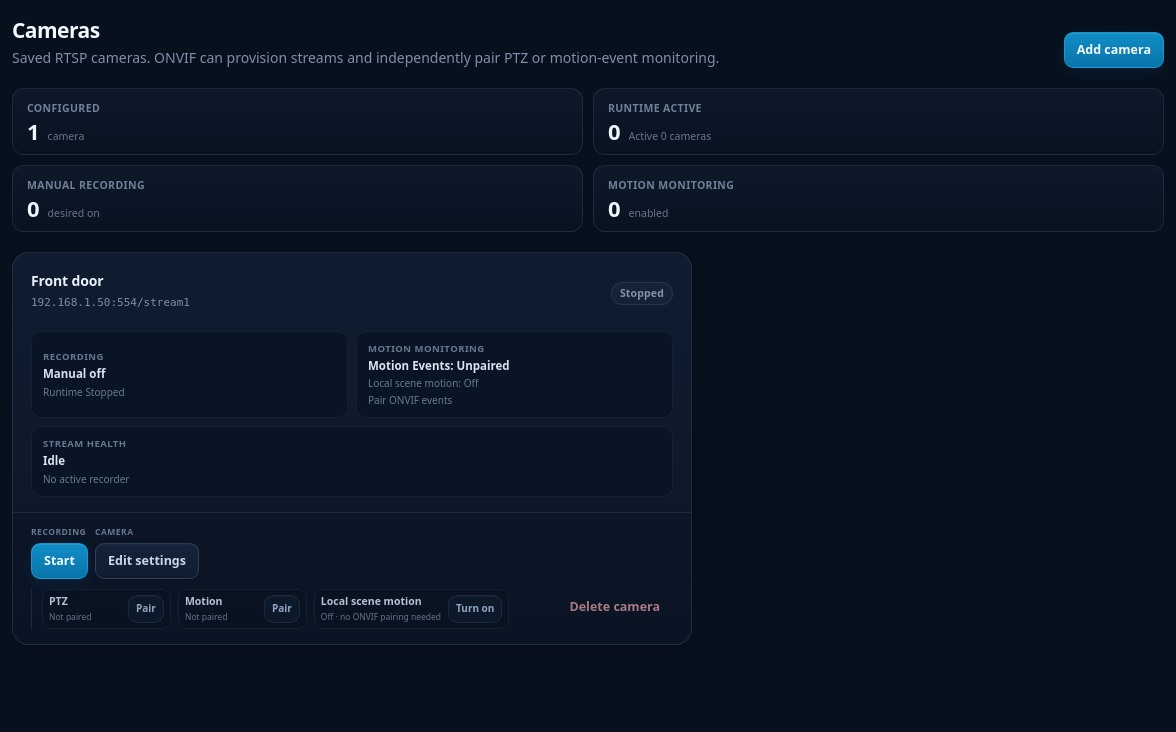
CamerasScreen › persists explicitly opted-in local scene motion without ONVIF pairing
Click the button with aria-label "Enable Local Motion" at (475, 609), box [448, 595, 502, 623]
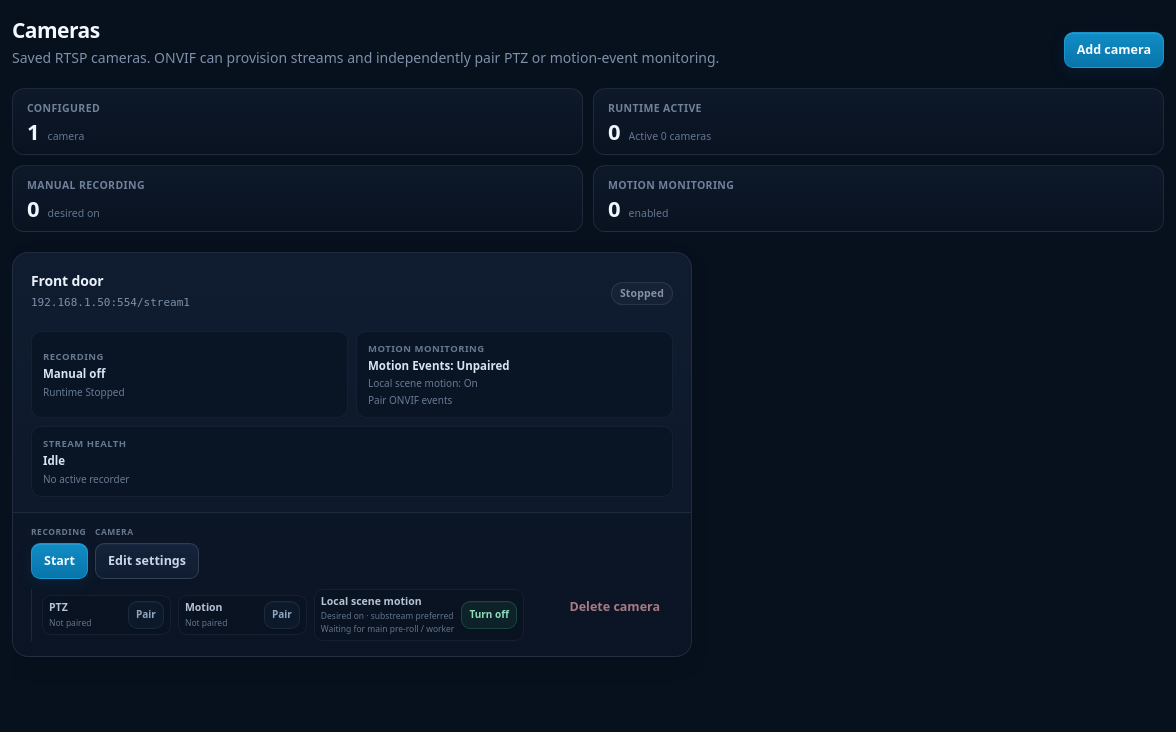
Expected: the button with aria-label "Disable Local Motion" is shown
Expected: the text "Local scene motion: On" is shown, [368, 376, 478, 390]
Click the button with aria-label "Disable Local Motion" at (489, 615), box [461, 601, 517, 629]
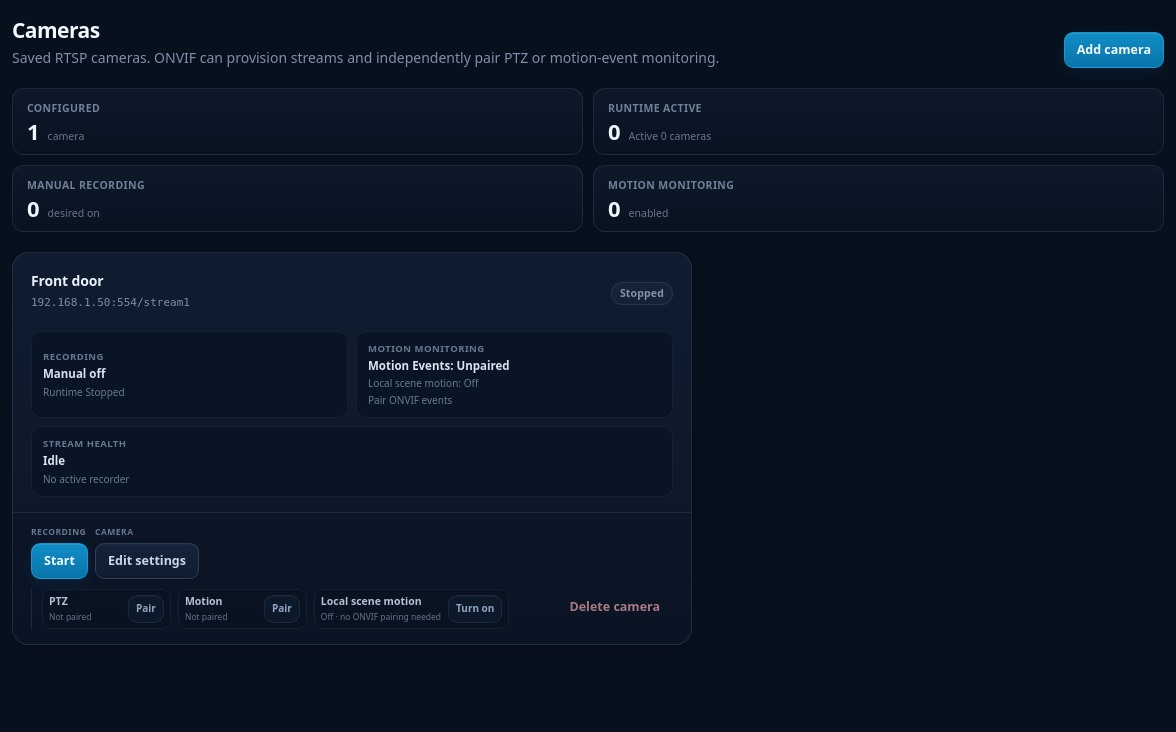
Expected: the button with aria-label "Enable Local Motion" is shown, [448, 595, 502, 623]
Expected: the text "Local scene motion: Off" is shown, [368, 376, 478, 390]
